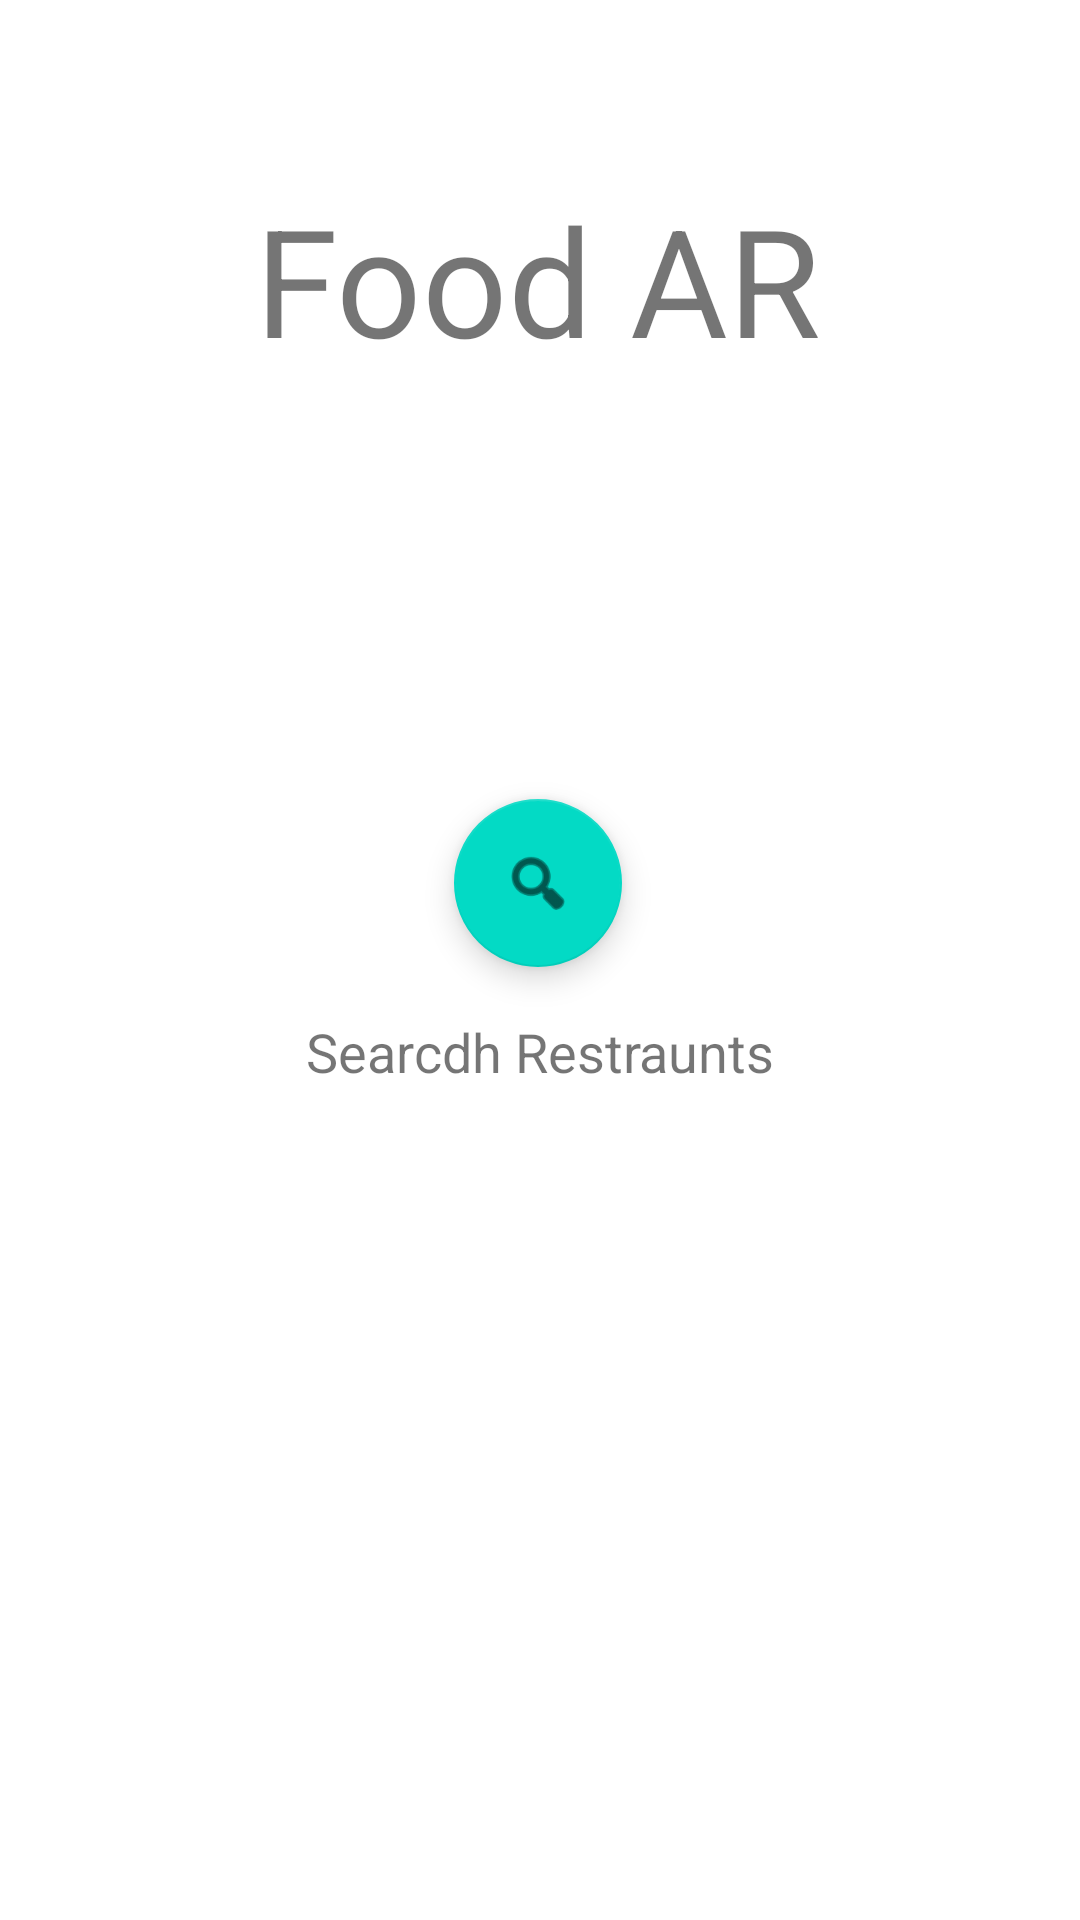

Locate icon controls on the screen. Image size 1080x1920, boxes as (x1, y1, x2, y2).
search: (454, 799, 622, 967)
